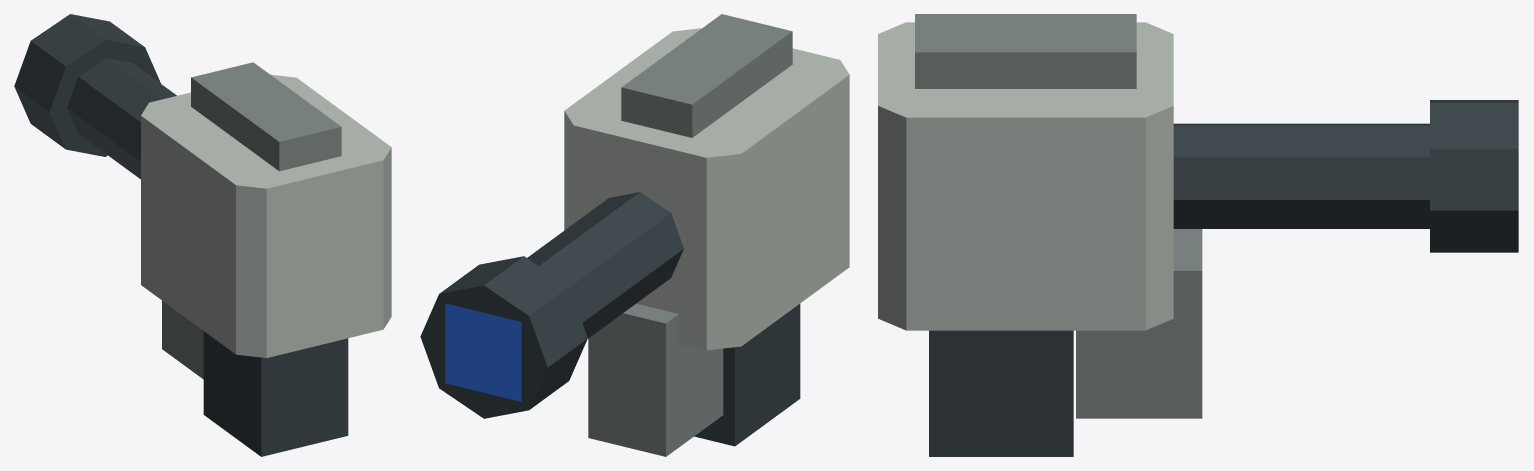
The picture shows the model from 3 angles, left to right: view 1: azimuth 30°, elevation 25°; view 2: azimuth 150°, elevation 25°; view 3: azimuth 270°, elevation 25°; orthographic projection. The views are drawn at different scales.
Visible parts, largest first — view 1: mount; view 2: mount; view 3: mount.
Boxes of the visible parts, left/top/right/bottom form: mount: left=14, top=14, right=391, bottom=456; mount: left=420, top=14, right=849, bottom=456; mount: left=878, top=14, right=1518, bottom=456.
Size of the model in its own units: 5.5 by 10.67 by 15.63.
